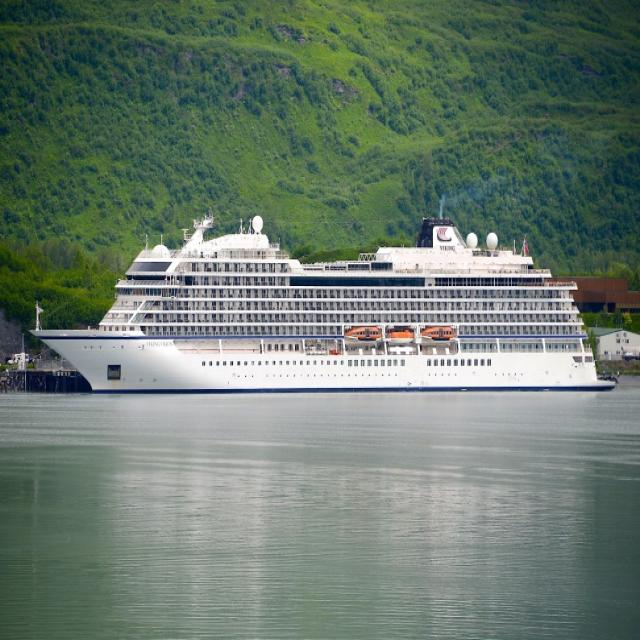cruises: (28, 184, 619, 400)
